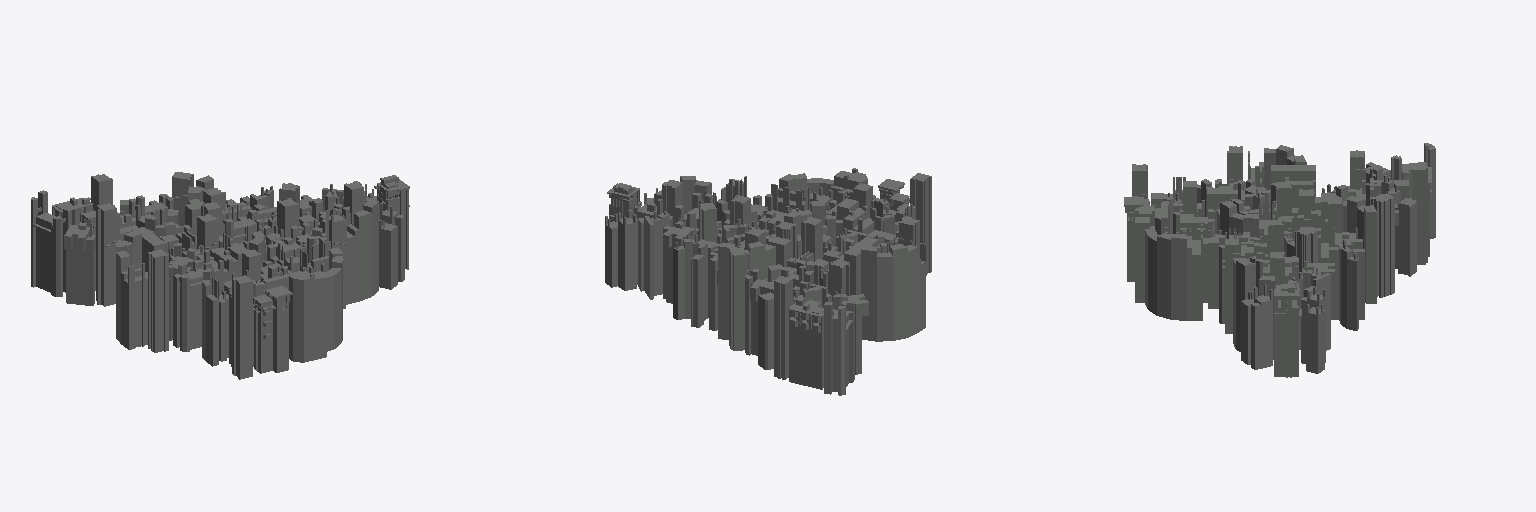
The picture shows the model from 3 angles: view 1: azimuth 30°, elevation 25°; view 2: azimuth 150°, elevation 25°; view 3: azimuth 270°, elevation 25°; orthographic projection.
Parts seen in each view (by area): view 1: 83; view 2: 83; view 3: 83.
Boxes of the visible parts, x1,y1,x2,y2 form: 83: [31, 172, 409, 379]; 83: [605, 168, 931, 395]; 83: [1124, 143, 1435, 377].
Bounding box in the file's own units: 2542 × 768 × 2276.
Materials: 1 (1 with a texture image).